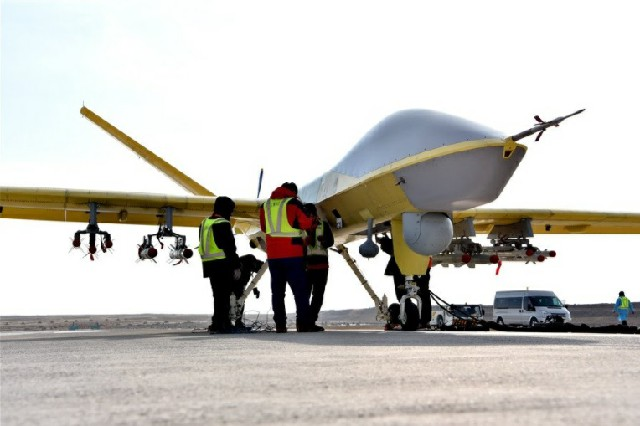maybay_khongnguoilai: (18, 106, 637, 300)
